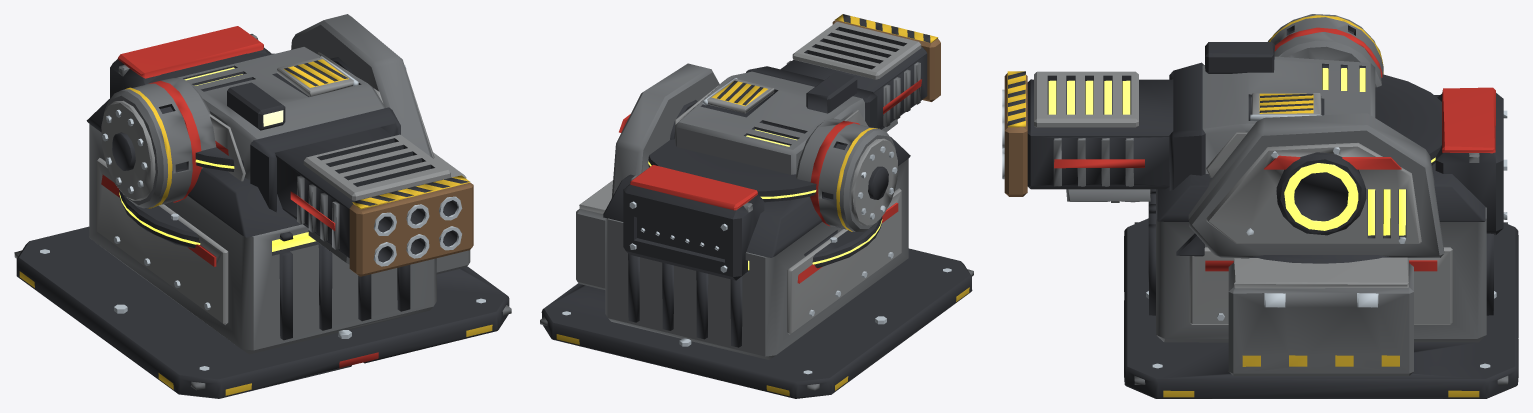
The model's file is R4W_Shotgun_LOD1.fbx.
The picture shows the model from 3 angles, left to right: view 1: azimuth 30°, elevation 25°; view 2: azimuth 150°, elevation 25°; view 3: azimuth 270°, elevation 25°; orthographic projection. The views are drawn at different scales.
Parts seen in each view (by area): view 1: R4W_Shotgun_Base_LOD1, R4W_Shotgun_Pitch_LOD1, R4W_Shotgun_Barrels_LOD1, R4W_Shotgun_Yaw_LOD1, R4W_Shotgun_LoadingGate_LOD1; view 2: R4W_Shotgun_Base_LOD1, R4W_Shotgun_Pitch_LOD1, R4W_Shotgun_Yaw_LOD1, R4W_Shotgun_Barrels_LOD1, R4W_Shotgun_LoadingGate_LOD1; view 3: R4W_Shotgun_Base_LOD1, R4W_Shotgun_Yaw_LOD1, R4W_Shotgun_Barrels_LOD1, R4W_Shotgun_Pitch_LOD1, R4W_Shotgun_LoadingGate_LOD1, R4W_Shotgun_Pump_LOD1.
Part boxes in pixels (left/top/right/bottom): R4W_Shotgun_Base_LOD1: left=14, top=53, right=511, bottom=398; R4W_Shotgun_Pitch_LOD1: left=101, top=47, right=400, bottom=212; R4W_Shotgun_Barrels_LOD1: left=275, top=127, right=473, bottom=276; R4W_Shotgun_Yaw_LOD1: left=110, top=14, right=434, bottom=248; R4W_Shotgun_LoadingGate_LOD1: left=277, top=55, right=358, bottom=96; R4W_Shotgun_Base_LOD1: left=540, top=136, right=973, bottom=398; R4W_Shotgun_Pitch_LOD1: left=675, top=66, right=897, bottom=231; R4W_Shotgun_Yaw_LOD1: left=612, top=63, right=882, bottom=280; R4W_Shotgun_Barrels_LOD1: left=780, top=14, right=940, bottom=129; R4W_Shotgun_LoadingGate_LOD1: left=702, top=78, right=774, bottom=113; R4W_Shotgun_Base_LOD1: left=1124, top=74, right=1518, bottom=398; R4W_Shotgun_Yaw_LOD1: left=1176, top=87, right=1507, bottom=263; R4W_Shotgun_Barrels_LOD1: left=1002, top=71, right=1173, bottom=196; R4W_Shotgun_Pitch_LOD1: left=1169, top=14, right=1383, bottom=190; R4W_Shotgun_LoadingGate_LOD1: left=1250, top=93, right=1321, bottom=121; R4W_Shotgun_Pump_LOD1: left=1066, top=189, right=1151, bottom=202.
Size of the model in its own units: 0.511 by 0.351 by 0.6685.
